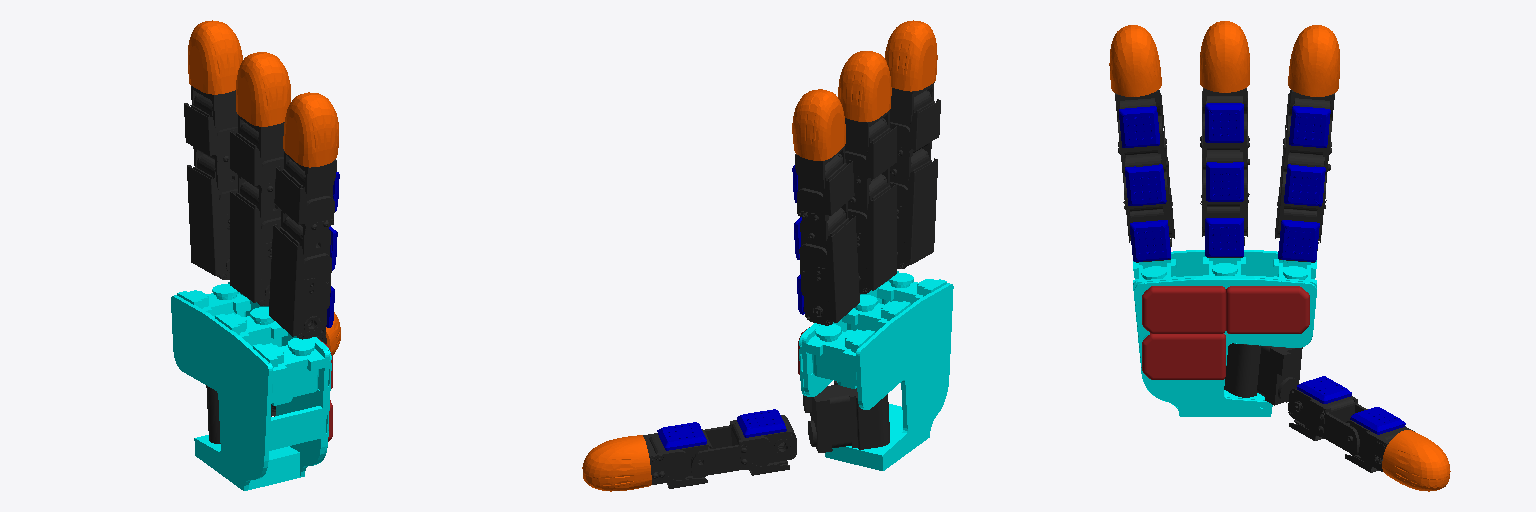
--- Render facts (derived) ---
3 views of the same robot in one strip: view 1: azimuth 30°, elevation 25°; view 2: azimuth 150°, elevation 25°; view 3: azimuth 270°, elevation 25° (orthographic).
Model allegro_hand_right with 44 links and 43 joints (16 revolute, 27 fixed), rooted at world, posed all joints at 0 but 1 set to mid-range because 0 is outside their limits (joint_12 = 0.8295).
Visible links, largest first — view 1: palm_link, link_9, link_5, link_1, 2aftc_palm_link, 1aftc_palm_link, 0aftc_palm_link, link_10, link_2, link_6, link_11, link_3 (+2 smaller); view 2: palm_link, link_1, link_12, link_14, link_5, link_9, 0aftc_palm_link, 3aftc_palm_link, 1aftc_palm_link, 2aftc_palm_link, link_2, link_6 (+7 smaller); view 3: palm_link, ahr_palm_1_4x6_palm_link, ahr_palm_2_4x6_palm_link, link_12, ahr_palm_3_4x6_palm_link, 0aftc_palm_link, 2aftc_palm_link, 1aftc_palm_link, 3aftc_palm_link, link_14, link_9, link_5 (+16 smaller).
Link boxes in pixels (x1,y1,x2,y2): palm_link: [171, 282, 331, 490]; link_9: [269, 216, 331, 339]; link_5: [230, 181, 280, 305]; link_1: [187, 154, 237, 279]; 2aftc_palm_link: [283, 92, 338, 167]; 1aftc_palm_link: [236, 52, 290, 126]; 0aftc_palm_link: [188, 20, 242, 94]; link_10: [274, 159, 334, 256]; link_2: [184, 93, 237, 190]; link_6: [230, 122, 284, 219]; link_11: [284, 152, 336, 199]; link_3: [191, 86, 237, 129]; palm_link: [799, 271, 953, 470]; link_1: [799, 208, 859, 325]; link_12: [803, 381, 889, 452]; link_14: [691, 415, 796, 476]; link_5: [848, 174, 896, 293]; link_9: [890, 148, 937, 268]; 0aftc_palm_link: [792, 89, 845, 160]; 3aftc_palm_link: [582, 435, 651, 491]; 1aftc_palm_link: [838, 51, 891, 121]; 2aftc_palm_link: [885, 20, 937, 91]; link_2: [797, 154, 854, 246]; link_6: [845, 118, 896, 211]; palm_link: [1133, 250, 1316, 416]; ahr_palm_1_4x6_palm_link: [1142, 286, 1225, 333]; ahr_palm_2_4x6_palm_link: [1226, 286, 1309, 333]; link_12: [1224, 343, 1302, 405]; ahr_palm_3_4x6_palm_link: [1142, 333, 1225, 379]; 0aftc_palm_link: [1288, 25, 1339, 96]; 2aftc_palm_link: [1109, 25, 1161, 96]; 1aftc_palm_link: [1200, 21, 1249, 92]; 3aftc_palm_link: [1382, 430, 1450, 491]; link_14: [1288, 388, 1367, 454]; link_9: [1122, 149, 1174, 262]; link_5: [1200, 149, 1249, 257].
Bounding box of the posed robot: 0.152 × 0.2107 × 0.2654 m (x, y, z).
31 mesh visuals loaded from 15 distinct referenced files (10 binary STL); not drawn: 12 (reference not matched to a file when rendering).

The robot description file, URDF, robot "allegro_hand_right":
<?xml version="1.0" ?>
<!-- =================================================================================== -->
<!-- |    This document was autogenerated by xacro from allegro_hand_right.xacro       | -->
<!-- |    EDITING THIS FILE BY HAND IS NOT RECOMMENDED                                 | -->
<!-- =================================================================================== -->
<robot name="allegro_hand_right">
  <!-- Rviz colors -->
  <material name="black">
    <color rgba="0.2 0.2 0.2 0.8"/>
    <!-- Slight transparency to make more visible -->
  </material>
  <material name="blue">
    <color rgba="0.0 0.0 0.8 1.0"/>
  </material>
  <material name="green">
    <color rgba="0.0 0.8 0.0 1.0"/>
  </material>
  <material name="grey">
    <color rgba="0.2 0.2 0.2 1.0"/>
  </material>
  <material name="orange">
    <color rgba="1.0 0.4235294117647059 0.0392156862745098 1.0"/>
  </material>
  <material name="brown">
    <color rgba="0.6470588235294118 0.16470588235294117 0.16470588235294117 1.0"/>
  </material>
  <material name="red">
    <color rgba="0.8 0.0 0.0 1.0"/>
  </material>
  <material name="white">
    <color rgba="1.0 1.0 1.0 1.0"/>
  </material>
  <link name="world"/>
  <link name="palm_link">
    <visual>
      <geometry>
        <mesh filename="package://xela_models/mesh/allegro/base.stl"/>
      </geometry>
      <origin rpy="0 0 0" xyz="0 0 0 "/>
      <material name="cyan">
        <color rgba="0.0 1.0 1.0 1"/>
      </material>
    </visual>
    <collision>
      <origin rpy="0 0 0" xyz="-0.009300 0 -0.0475"/>
      <geometry>
        <box size="0.0408 0.1130 0.095"/>
      </geometry>
    </collision>
    <inertial>
      <mass value="0.4288"/>
      <origin rpy="0 0 0" xyz="0 0 0"/>
      <inertia ixx="2.04e-03" ixy="8.58e-06" ixz="8.58e-06" iyy="1.23e-03" iyz="0.0" izz="1.25e-03"/>
    </inertial>
  </link>
  <joint name="ahr_fixed" type="fixed">
    <origin rpy="0.0 0.0 0.0" xyz="0.0 0.0 0.0"/>
    <parent link="world"/>
    <child link="palm_link"/>
  </joint>
  <joint name="ahr_palm_1_4x6_fixed" type="fixed">
    <origin rpy="1.5707963267948966 0.0 1.5707963267948966" xyz="0.013 -0.051 -0.0365"/>
    <parent link="palm_link"/>
    <child link="ahr_palm_1_4x6_palm_link"/>
  </joint>
  <link name="ahr_palm_1_4x6_palm_link">
    <collision>
      <origin rpy="0 0 0" xyz="0 0 0"/>
      <geometry>
        <mesh filename="package://xela_models/mesh/4x6.stl"/>
      </geometry>
    </collision>
    <visual>
      <origin rpy="0 0 0" xyz="0 0 0"/>
      <geometry>
        <mesh filename="package://xela_models/mesh/4x6.stl"/>
      </geometry>
      <material name="brown"/>
    </visual>
  </link>
  <joint name="ahr_palm_2_4x6_fixed" type="fixed">
    <origin rpy="1.5707963267948966 3.141592653589793 1.5707963267948966" xyz="0.013 0.0523 -0.005"/>
    <parent link="palm_link"/>
    <child link="ahr_palm_2_4x6_palm_link"/>
  </joint>
  <link name="ahr_palm_2_4x6_palm_link">
    <collision>
      <origin rpy="0 0 0" xyz="0 0 0"/>
      <geometry>
        <mesh filename="package://xela_models/mesh/4x6.stl"/>
      </geometry>
    </collision>
    <visual>
      <origin rpy="0 0 0" xyz="0 0 0"/>
      <geometry>
        <mesh filename="package://xela_models/mesh/4x6.stl"/>
      </geometry>
      <material name="brown"/>
    </visual>
  </link>
  <joint name="ahr_palm_3_4x6_fixed" type="fixed">
    <origin rpy="1.5707963267948966 0.0 1.5707963267948966" xyz="0.013 -0.051 -0.068"/>
    <parent link="palm_link"/>
    <child link="ahr_palm_3_4x6_palm_link"/>
  </joint>
  <link name="ahr_palm_3_4x6_palm_link">
    <collision>
      <origin rpy="0 0 0" xyz="0 0 0"/>
      <geometry>
        <mesh filename="package://xela_models/mesh/4x6.stl"/>
      </geometry>
    </collision>
    <visual>
      <origin rpy="0 0 0" xyz="0 0 0"/>
      <geometry>
        <mesh filename="package://xela_models/mesh/4x6.stl"/>
      </geometry>
      <material name="brown"/>
    </visual>
  </link>
  <link name="link_0">
    <visual>
      <geometry>
        <mesh filename="package://xela_models/mesh/allegro/link_0.0_ext.STL"/>
      </geometry>
      <material name="grey"/>
    </visual>
    <collision>
      <geometry>
        <box size="0.0196 0.0275 0.0164"/>
      </geometry>
      <origin rpy="0 0 0" xyz="0 0 0.011200000000000002"/>
    </collision>
    <inertial>
      <mass value="0.0127"/>
      <origin rpy="0 0 0" xyz="0 0 0"/>
      <inertia ixx="1.38e-07" ixy="1.27e-10" ixz="4.83e-09" iyy="6.83e-08" iyz="0.0" izz="1.16e-07"/>
    </inertial>
  </link>
  <joint name="joint_0" type="revolute">
    <axis xyz="0 0 1"/>
    <limit effort="15" lower="-0.47" upper="0.47" velocity="7"/>
    <parent link="palm_link"/>
    <child link="link_0"/>
    <origin rpy="-0.08726646259971647 0 0" xyz="0 0.0435 -0.001542"/>
  </joint>
  <link name="link_1">
    <visual>
      <geometry>
        <mesh filename="package://xela_models/mesh/allegro/link_1.0.stl"/>
      </geometry>
      <material name="black"/>
    </visual>
    <collision>
      <geometry>
        <box size="0.0196 0.0275 0.0164"/>
      </geometry>
      <origin rpy="0 0 0" xyz="0 0 0.0082"/>
    </collision>
    <inertial>
      <mass value="0.0809"/>
      <origin rpy="0 0 0" xyz="0 0 0"/>
      <inertia ixx="1.75e-05" ixy="0.0" ixz="5.66e-08" iyy="1.80e-05" iyz="0.0" izz="4.60e-06"/>
    </inertial>
  </link>
  <!--covers are always with sensors-->
  <link name="link_1_cover">
    <visual>
      <geometry>
        <mesh filename="package://xela_models/mesh/allegro/link_1_cover.stl"/>
      </geometry>
      <material name="red"/>
    </visual>
    <collision>
      <geometry>
        <mesh filename="package://xela_models/mesh/allegro/link_1_cover.stl"/>
      </geometry>
      <origin rpy="0 0 0" xyz="0 0 0.00885"/>
    </collision>
    <!--As link is fixed, inertias will be inside the main link-->
  </link>
  <joint name="link_1_cover_joint" type="fixed">
    <origin rpy="0.0 0.0 0.0" xyz="0.0 0.0 0.0"/>
    <parent link="link_1"/>
    <child link="link_1_cover"/>
  </joint>
  <joint name="link_1A_4x4_fixed" type="fixed">
    <origin rpy="0.0 -1.5707963267948966 3.141592653589793" xyz="0.0108 0.012 0.033"/>
    <parent link="link_1"/>
    <child link="link_1A_4x4_palm_link"/>
  </joint>
  <link name="link_1A_4x4_palm_link">
    <collision>
      <origin rpy="0 0 0" xyz="0 0 0"/>
      <geometry>
        <mesh filename="package://xela_models/mesh/4x4.stl"/>
      </geometry>
    </collision>
    <visual>
      <origin rpy="0 0 0" xyz="0 0 0"/>
      <geometry>
        <mesh filename="package://xela_models/mesh/4x4.stl"/>
      </geometry>
      <material name="blue"/>
    </visual>
  </link>
  <joint name="link_1B_4x4_fixed" type="fixed">
    <origin rpy="0.0 1.5707963267948966 0.0" xyz="0.0108 -0.012 0.021"/>
    <parent link="link_1"/>
    <child link="link_1B_4x4_palm_link"/>
  </joint>
  <link name="link_1B_4x4_palm_link">
    <collision>
      <origin rpy="0 0 0" xyz="0 0 0"/>
      <geometry>
        <mesh filename="package://xela_models/mesh/4x4.stl"/>
      </geometry>
    </collision>
    <visual>
      <origin rpy="0 0 0" xyz="0 0 0"/>
      <geometry>
        <mesh filename="package://xela_models/mesh/4x4.stl"/>
      </geometry>
      <material name="blue"/>
    </visual>
  </link>
  <joint name="joint_1" type="revolute">
    <limit effort="15" lower="-0.19599999999999998" upper="1.6099999999999999" velocity="7"/>
    <axis xyz="0 1 0"/>
    <parent link="link_0"/>
    <child link="link_1"/>
    <origin xyz="0 0 0.0189"/>
    <!-- New height on fingers -->
  </joint>
  <link name="link_2">
    <visual>
      <geometry>
        <mesh filename="package://xela_models/mesh/allegro/link_2.0.stl"/>
      </geometry>
      <material name="black"/>
    </visual>
    <collision>
      <geometry>
        <box size="0.0196 0.0275 0.054"/>
      </geometry>
      <origin rpy="0 0 0" xyz="0 0 0.027"/>
    </collision>
    <!--covers are always with sensors-->
    <inertial>
      <mass value="0.0447"/>
      <origin rpy="0 0 0" xyz="0 0 0"/>
      <inertia ixx="3.80e-07" ixy="0.0" ixz="7.15e-09" iyy="2.26e-07" iyz="1.34e-09" izz="1.86e-07"/>
    </inertial>
  </link>
  <link name="link_2_cover">
    <visual>
      <geometry>
        <mesh filename="package://xela_models/mesh/allegro/link_2_cover.stl"/>
      </geometry>
      <material name="red"/>
    </visual>
    <collision>
      <geometry>
        <mesh filename="package://xela_models/mesh/allegro/link_2_cover.stl"/>
      </geometry>
      <origin rpy="0 0 0" xyz="0 0 0.0257"/>
    </collision>
  </link>
  <joint name="link_2_cover_joint" type="fixed">
    <origin rpy="0.0 0.0 0.0" xyz="0.0 0.0 0.0"/>
    <parent link="link_2"/>
    <child link="link_2_cover"/>
  </joint>
  <joint name="link_2_4x4_fixed" type="fixed">
    <origin rpy="0.0 1.5707963267948966 0.0" xyz="0.01 -0.012 0.0445"/>
    <parent link="link_2"/>
    <child link="link_2_4x4_palm_link"/>
  </joint>
  <link name="link_2_4x4_palm_link">
    <collision>
      <origin rpy="0 0 0" xyz="0 0 0"/>
      <geometry>
        <mesh filename="package://xela_models/mesh/4x4.stl"/>
      </geometry>
    </collision>
    <visual>
      <origin rpy="0 0 0" xyz="0 0 0"/>
      <geometry>
        <mesh filename="package://xela_models/mesh/4x4.stl"/>
      </geometry>
      <material name="blue"/>
    </visual>
  </link>
  <joint name="joint_2" type="revolute">
    <axis xyz="0 1 0"/>
    <limit effort="15" lower="-0.17400000000000002" upper="1.7089999999999999" velocity="7"/>
    <parent link="link_1"/>
    <child link="link_2"/>
    <origin xyz="0 0 0.054"/>
  </joint>
  <link name="link_3">
    <visual>
      <geometry>
        <mesh filename="package://xela_models/mesh/allegro/link_3.0.STL"/>
      </geometry>
      <material name="black"/>
    </visual>
    <collision>
      <geometry>
        <box size="0.0196 0.0275 0.026399999999999996"/>
      </geometry>
      <origin rpy="0 0 0" xyz="0 0 0.013199999999999998"/>
    </collision>
    <inertial>
      <mass value="0.0404"/>
      <origin rpy="0 0 0" xyz="0 0 0"/>
      <inertia ixx="3.64e-06" ixy="0.0" ixz="0.0" iyy="3.33e-06" iyz="0.0" izz="1.92e-06"/>
    </inertial>
  </link>
  <joint name="joint_3" type="revolute">
    <axis xyz="0 1 0"/>
    <limit effort="15" lower="-0.227" upper="1.6179999999999999" velocity="7"/>
    <parent link="link_2"/>
    <child link="link_3"/>
    <origin xyz="0 0.0 0.0384"/>
  </joint>
  <joint name="0aftc_fixed" type="fixed">
    <origin rpy="1.5707963267948966 0.0 1.5707963267948966" xyz="-0.013 0.0 0.016"/>
    <parent link="link_3"/>
    <child link="0aftc_palm_link"/>
  </joint>
  <link name="0aftc_palm_link">
    <collision>
      <origin rpy="0 0 0" xyz="0 0 0"/>
      <geometry>
        <mesh filename="package://xela_models/mesh/ft_c.stl"/>
      </geometry>
    </collision>
    <visual>
      <origin rpy="0 0 0" xyz="0 0 0"/>
      <geometry>
        <mesh filename="package://xela_models/mesh/ft_c.stl"/>
      </geometry>
      <material name="orange"/>
    </visual>
  </link>
  <link name="link_4">
    <visual>
      <geometry>
        <mesh filename="package://xela_models/mesh/allegro/link_0.0_ext.STL"/>
      </geometry>
      <material name="grey"/>
    </visual>
    <collision>
      <geometry>
        <box size="0.0196 0.0275 0.0164"/>
      </geometry>
      <origin rpy="0 0 0" xyz="0 0 0.011200000000000002"/>
    </collision>
    <inertial>
      <mass value="0.0127"/>
      <origin rpy="0 0 0" xyz="0 0 0"/>
      <inertia ixx="1.38e-07" ixy="1.27e-10" ixz="4.83e-09" iyy="6.83e-08" iyz="0.0" izz="1.16e-07"/>
    </inertial>
  </link>
  <joint name="joint_4" type="revolute">
    <axis xyz="0 0 1"/>
    <limit effort="15" lower="-0.47" upper="0.47" velocity="7"/>
    <parent link="palm_link"/>
    <child link="link_4"/>
    <origin rpy="0.0 0 0" xyz="0 0 0.0007"/>
  </joint>
  <link name="link_5">
    <visual>
      <geometry>
        <mesh filename="package://xela_models/mesh/allegro/link_1.0.stl"/>
      </geometry>
      <material name="black"/>
    </visual>
    <collision>
      <geometry>
        <box size="0.0196 0.0275 0.0164"/>
      </geometry>
      <origin rpy="0 0 0" xyz="0 0 0.0082"/>
    </collision>
    <inertial>
      <mass value="0.0809"/>
      <origin rpy="0 0 0" xyz="0 0 0"/>
      <inertia ixx="1.75e-05" ixy="0.0" ixz="5.66e-08" iyy="1.80e-05" iyz="0.0" izz="4.60e-06"/>
    </inertial>
  </link>
  <!--covers are always with sensors-->
  <link name="link_5_cover">
    <visual>
      <geometry>
        <mesh filename="package://xela_models/mesh/allegro/link_1_cover.stl"/>
      </geometry>
      <material name="red"/>
    </visual>
    <collision>
      <geometry>
        <mesh filename="package://xela_models/mesh/allegro/link_1_cover.stl"/>
      </geometry>
      <origin rpy="0 0 0" xyz="0 0 0.00885"/>
    </collision>
    <!--As link is fixed, inertias will be inside the main link-->
  </link>
  <joint name="link_5_cover_joint" type="fixed">
    <origin rpy="0.0 0.0 0.0" xyz="0.0 0.0 0.0"/>
    <parent link="link_5"/>
    <child link="link_5_cover"/>
  </joint>
  <joint name="link_5A_4x4_fixed" type="fixed">
    <origin rpy="0.0 -1.5707963267948966 3.141592653589793" xyz="0.0108 0.012 0.033"/>
    <parent link="link_5"/>
    <child link="link_5A_4x4_palm_link"/>
  </joint>
  <link name="link_5A_4x4_palm_link">
    <collision>
      <origin rpy="0 0 0" xyz="0 0 0"/>
      <geometry>
        <mesh filename="package://xela_models/mesh/4x4.stl"/>
      </geometry>
    </collision>
    <visual>
      <origin rpy="0 0 0" xyz="0 0 0"/>
      <geometry>
        <mesh filename="package://xela_models/mesh/4x4.stl"/>
      </geometry>
      <material name="blue"/>
    </visual>
  </link>
  <joint name="link_5B_4x4_fixed" type="fixed">
    <origin rpy="0.0 1.5707963267948966 0.0" xyz="0.0108 -0.012 0.021"/>
    <parent link="link_5"/>
    <child link="link_5B_4x4_palm_link"/>
  </joint>
  <link name="link_5B_4x4_palm_link">
    <collision>
      <origin rpy="0 0 0" xyz="0 0 0"/>
      <geometry>
        <mesh filename="package://xela_models/mesh/4x4.stl"/>
      </geometry>
    </collision>
    <visual>
      <origin rpy="0 0 0" xyz="0 0 0"/>
      <geometry>
        <mesh filename="package://xela_models/mesh/4x4.stl"/>
      </geometry>
      <material name="blue"/>
    </visual>
  </link>
  <joint name="joint_5" type="revolute">
    <limit effort="15" lower="-0.19599999999999998" upper="1.6099999999999999" velocity="7"/>
    <axis xyz="0 1 0"/>
    <parent link="link_4"/>
    <child link="link_5"/>
    <origin xyz="0 0 0.0189"/>
    <!-- New height on fingers -->
  </joint>
  <link name="link_6">
    <visual>
      <geometry>
        <mesh filename="package://xela_models/mesh/allegro/link_2.0.stl"/>
      </geometry>
      <material name="black"/>
    </visual>
    <collision>
      <geometry>
        <box size="0.0196 0.0275 0.054"/>
      </geometry>
      <origin rpy="0 0 0" xyz="0 0 0.027"/>
    </collision>
    <!--covers are always with sensors-->
    <inertial>
      <mass value="0.0447"/>
      <origin rpy="0 0 0" xyz="0 0 0"/>
      <inertia ixx="3.80e-07" ixy="0.0" ixz="7.15e-09" iyy="2.26e-07" iyz="1.34e-09" izz="1.86e-07"/>
    </inertial>
  </link>
  <link name="link_6_cover">
    <visual>
      <geometry>
        <mesh filename="package://xela_models/mesh/allegro/link_2_cover.stl"/>
      </geometry>
      <material name="red"/>
    </visual>
    <collision>
      <geometry>
        <mesh filename="package://xela_models/mesh/allegro/link_2_cover.stl"/>
      </geometry>
      <origin rpy="0 0 0" xyz="0 0 0.0257"/>
    </collision>
  </link>
  <joint name="link_6_cover_joint" type="fixed">
    <origin rpy="0.0 0.0 0.0" xyz="0.0 0.0 0.0"/>
    <parent link="link_6"/>
    <child link="link_6_cover"/>
  </joint>
  <joint name="link_6_4x4_fixed" type="fixed">
    <origin rpy="0.0 1.5707963267948966 0.0" xyz="0.01 -0.012 0.0445"/>
    <parent link="link_6"/>
    <child link="link_6_4x4_palm_link"/>
  </joint>
  <link name="link_6_4x4_palm_link">
    <collision>
      <origin rpy="0 0 0" xyz="0 0 0"/>
      <geometry>
        <mesh filename="package://xela_models/mesh/4x4.stl"/>
      </geometry>
    </collision>
    <visual>
      <origin rpy="0 0 0" xyz="0 0 0"/>
      <geometry>
        <mesh filename="package://xela_models/mesh/4x4.stl"/>
      </geometry>
      <material name="blue"/>
    </visual>
  </link>
  <joint name="joint_6" type="revolute">
    <axis xyz="0 1 0"/>
    <limit effort="15" lower="-0.17400000000000002" upper="1.7089999999999999" velocity="7"/>
    <parent link="link_5"/>
    <child link="link_6"/>
    <origin xyz="0 0 0.054"/>
  </joint>
  <link name="link_7">
    <visual>
      <geometry>
        <mesh filename="package://xela_models/mesh/allegro/link_3.0.STL"/>
      </geometry>
      <material name="black"/>
    </visual>
    <collision>
      <geometry>
        <box size="0.0196 0.0275 0.026399999999999996"/>
      </geometry>
      <origin rpy="0 0 0" xyz="0 0 0.013199999999999998"/>
    </collision>
    <inertial>
      <mass value="0.0404"/>
      <origin rpy="0 0 0" xyz="0 0 0"/>
      <inertia ixx="3.64e-06" ixy="0.0" ixz="0.0" iyy="3.33e-06" iyz="0.0" izz="1.92e-06"/>
    </inertial>
  </link>
  <joint name="joint_7" type="revolute">
    <axis xyz="0 1 0"/>
    <limit effort="15" lower="-0.227" upper="1.6179999999999999" velocity="7"/>
    <parent link="link_6"/>
    <child link="link_7"/>
    <origin xyz="0 0.0 0.0384"/>
  </joint>
  <joint name="1aftc_fixed" type="fixed">
    <origin rpy="1.5707963267948966 0.0 1.5707963267948966" xyz="-0.013 0.0 0.016"/>
    <parent link="link_7"/>
    <child link="1aftc_palm_link"/>
  </joint>
  <link name="1aftc_palm_link">
    <collision>
      <origin rpy="0 0 0" xyz="0 0 0"/>
      <geometry>
        <mesh filename="package://xela_models/mesh/ft_c.stl"/>
      </geometry>
    </collision>
    <visual>
      <origin rpy="0 0 0" xyz="0 0 0"/>
      <geometry>
        <mesh filename="package://xela_models/mesh/ft_c.stl"/>
      </geometry>
      <material name="orange"/>
    </visual>
  </link>
  <link name="link_8">
    <visual>
      <geometry>
        <mesh filename="package://xela_models/mesh/allegro/link_0.0_ext.STL"/>
      </geometry>
      <material name="grey"/>
    </visual>
    <collision>
      <geometry>
        <box size="0.0196 0.0275 0.0164"/>
      </geometry>
      <origin rpy="0 0 0" xyz="0 0 0.011200000000000002"/>
    </collision>
    <inertial>
      <mass value="0.0127"/>
      <origin rpy="0 0 0" xyz="0 0 0"/>
      <inertia ixx="1.38e-07" ixy="1.27e-10" ixz="4.83e-09" iyy="6.83e-08" iyz="0.0" izz="1.16e-07"/>
    </inertial>
  </link>
  <joint name="joint_8" type="revolute">
    <axis xyz="0 0 1"/>
    <limit effort="15" lower="-0.47" upper="0.47" velocity="7"/>
    <parent link="palm_link"/>
    <child link="link_8"/>
    <origin rpy="0.08726646259971647 0 0" xyz="0 -0.0435 -0.001542"/>
  </joint>
  <link name="link_9">
    <visual>
      <geometry>
        <mesh filename="package://xela_models/mesh/allegro/link_1.0.stl"/>
      </geometry>
      <material name="black"/>
    </visual>
    <collision>
      <geometry>
        <box size="0.0196 0.0275 0.0164"/>
      </geometry>
      <origin rpy="0 0 0" xyz="0 0 0.0082"/>
    </collision>
    <inertial>
      <mass value="0.0809"/>
      <origin rpy="0 0 0" xyz="0 0 0"/>
      <inertia ixx="1.75e-05" ixy="0.0" ixz="5.66e-08" iyy="1.80e-05" iyz="0.0" izz="4.60e-06"/>
    </inertial>
  </link>
  <!--covers are always with sensors-->
  <link name="link_9_cover">
    <visual>
      <geometry>
        <mesh filename="package://xela_models/mesh/allegro/link_1_cover.stl"/>
      </geometry>
      <material name="red"/>
    </visual>
    <collision>
      <geometry>
        <mesh filename="package://xela_models/mesh/allegro/link_1_cover.stl"/>
      </geometry>
      <origin rpy="0 0 0" xyz="0 0 0.00885"/>
    </collision>
    <!--As link is fixed, inertias will be inside the main link-->
  </link>
  <joint name="link_9_cover_joint" type="fixed">
    <origin rpy="0.0 0.0 0.0" xyz="0.0 0.0 0.0"/>
    <parent link="link_9"/>
    <child link="link_9_cover"/>
  </joint>
  <joint name="link_9A_4x4_fixed" type="fixed">
    <origin rpy="0.0 -1.5707963267948966 3.141592653589793" xyz="0.0108 0.012 0.033"/>
    <parent link="link_9"/>
    <child link="link_9A_4x4_palm_link"/>
  </joint>
  <link name="link_9A_4x4_palm_link">
    <collision>
      <origin rpy="0 0 0" xyz="0 0 0"/>
      <geometry>
        <mesh filename="package://xela_models/mesh/4x4.stl"/>
      </geometry>
    </collision>
    <visual>
      <origin rpy="0 0 0" xyz="0 0 0"/>
      <geometry>
        <mesh filename="package://xela_models/mesh/4x4.stl"/>
      </geometry>
      <material name="blue"/>
    </visual>
  </link>
  <joint name="link_9B_4x4_fixed" type="fixed">
    <origin rpy="0.0 1.5707963267948966 0.0" xyz="0.0108 -0.012 0.021"/>
    <parent link="link_9"/>
    <child link="link_9B_4x4_palm_link"/>
  </joint>
  <link name="link_9B_4x4_palm_link">
    <collision>
      <origin rpy="0 0 0" xyz="0 0 0"/>
      <geometry>
        <mesh filename="package://xela_models/mesh/4x4.stl"/>
      </geometry>
    </collision>
    <visual>
      <origin rpy="0 0 0" xyz="0 0 0"/>
      <geometry>
        <mesh filename="package://xela_models/mesh/4x4.stl"/>
      </geometry>
      <material name="blue"/>
    </visual>
  </link>
  <joint name="joint_9" type="revolute">
    <limit effort="15" lower="-0.19599999999999998" upper="1.6099999999999999" velocity="7"/>
    <axis xyz="0 1 0"/>
    <parent link="link_8"/>
    <child link="link_9"/>
    <origin xyz="0 0 0.0189"/>
    <!-- New height on fingers -->
  </joint>
  <link name="link_10">
    <visual>
      <geometry>
        <mesh filename="package://xela_models/mesh/allegro/link_2.0.stl"/>
      </geometry>
      <material name="black"/>
    </visual>
    <collision>
      <geometry>
        <box size="0.0196 0.0275 0.054"/>
      </geometry>
      <origin rpy="0 0 0" xyz="0 0 0.027"/>
    </collision>
    <!--covers are always with sensors-->
    <inertial>
      <mass value="0.0447"/>
      <origin rpy="0 0 0" xyz="0 0 0"/>
      <inertia ixx="3.80e-07" ixy="0.0" ixz="7.15e-09" iyy="2.26e-07" iyz="1.34e-09" izz="1.86e-07"/>
    </inertial>
  </link>
  <link name="link_10_cover">
    <visual>
      <geometry>
        <mesh filename="package://xela_models/mesh/allegro/link_2_cover.stl"/>
      </geometry>
      <material name="red"/>
    </visual>
    <collision>
      <geometry>
        <mesh filename="package://xela_models/mesh/allegro/link_2_cover.stl"/>
      </geometry>
      <origin rpy="0 0 0" xyz="0 0 0.0257"/>
    </collision>
  </link>
  <joint name="link_10_cover_joint" type="fixed">
    <origin rpy="0.0 0.0 0.0" xyz="0.0 0.0 0.0"/>
    <parent link="link_10"/>
    <child link="link_10_cover"/>
  </joint>
  <joint name="link_10_4x4_fixed" type="fixed">
    <origin rpy="0.0 1.5707963267948966 0.0" xyz="0.01 -0.012 0.0445"/>
    <parent link="link_10"/>
    <child link="link_10_4x4_palm_link"/>
  </joint>
  <link name="link_10_4x4_palm_link">
    <collision>
      <origin rpy="0 0 0" xyz="0 0 0"/>
      <geometry>
        <mesh filename="package://xela_models/mesh/4x4.stl"/>
      </geometry>
    </collision>
    <visual>
      <origin rpy="0 0 0" xyz="0 0 0"/>
      <geometry>
        <mesh filename="package://xela_models/mesh/4x4.stl"/>
      </geometry>
      <material name="blue"/>
    </visual>
  </link>
  <joint name="joint_10" type="revolute">
    <axis xyz="0 1 0"/>
    <limit effort="15" lower="-0.17400000000000002" upper="1.7089999999999999" velocity="7"/>
    <parent link="link_9"/>
    <child link="link_10"/>
    <origin xyz="0 0 0.054"/>
  </joint>
  <link name="link_11">
    <visual>
      <geometry>
        <mesh filename="package://xela_models/mesh/allegro/link_3.0.STL"/>
      </geometry>
      <material name="black"/>
    </visual>
    <collision>
      <geometry>
        <box size="0.0196 0.0275 0.026399999999999996"/>
      </geometry>
      <origin rpy="0 0 0" xyz="0 0 0.013199999999999998"/>
    </collision>
    <inertial>
      <mass value="0.0404"/>
      <origin rpy="0 0 0" xyz="0 0 0"/>
      <inertia ixx="3.64e-06" ixy="0.0" ixz="0.0" iyy="3.33e-06" iyz="0.0" izz="1.92e-06"/>
    </inertial>
  </link>
  <joint name="joint_11" type="revolute">
    <axis xyz="0 1 0"/>
    <limit effort="15" lower="-0.227" upper="1.6179999999999999" velocity="7"/>
    <parent link="link_10"/>
    <child link="link_11"/>
    <origin xyz="0 0.0 0.0384"/>
  </joint>
  <joint name="2aftc_fixed" type="fixed">
    <origin rpy="1.5707963267948966 0.0 1.5707963267948966" xyz="-0.013 0.0 0.016"/>
    <parent link="link_11"/>
    <child link="2aftc_palm_link"/>
  </joint>
  <link name="2aftc_palm_link">
    <collision>
      <origin rpy="0 0 0" xyz="0 0 0"/>
      <geometry>
        <mesh filename="package://xela_models/mesh/ft_c.stl"/>
      </geometry>
    </collision>
    <visual>
      <origin rpy="0 0 0" xyz="0 0 0"/>
      <geometry>
        <mesh filename="package://xela_models/mesh/ft_c.stl"/>
      </geometry>
      <material name="orange"/>
    </visual>
  </link>
  <link name="link_12">
    <visual>
      <geometry>
        <mesh filename="package://xela_models/mesh/allegro/link_12.0_right.STL"/>
      </geometry>
      <material name="grey"/>
    </visual>
    <collision>
      <geometry>
        <box size="0.0358 0.034 0.0455"/>
      </geometry>
      <origin rpy="0 0 0" xyz="-0.0179 0.009 0.0145"/>
    </collision>
    <inertial>
      <mass value="0.0176"/>
      <origin rpy="0 0 0" xyz="0 0 0"/>
      <inertia ixx="3.36e-06" ixy="0.0" ixz="1.76e-08" iyy="3.84e-06" iyz="2.46e-07" izz="2.59e-06"/>
    </inertial>
  </link>
  <joint name="joint_12" type="revolute">
    <axis xyz="-1 0 0"/>
    <limit effort="15" lower="0.263" upper="1.396" velocity="7"/>
    <parent link="palm_link"/>
    <child link="link_12"/>
    <origin rpy="0 -1.6580627893946132 -1.5707963267948966" xyz="-0.0182 0.019333 -0.046487"/>
  </joint>
  <link name="link_13">
    <visual>
      <geometry>
        <mesh filename="package://xela_models/mesh/allegro/link_0.0_ext.STL"/>
        <!-- link_13.0.STL -->
      </geometry>
      <material name="grey"/>
    </visual>
    <collision>
      <geometry>
        <box size="0.0196 0.0275 0.0177"/>
      </geometry>
      <origin rpy="0 0 0" xyz="0 0 0.00885"/>
    </collision>
    <inertial>
      <mass value="0.0127"/>
      <origin rpy="0 0 0" xyz="0 0 0"/>
      <inertia ixx="1.38e-07" ixy="1.27e-10" ixz="4.83e-09" iyy="6.83e-08" iyz="0.0" izz="1.16e-07"/>
    </inertial>
  </link>
  <link name="link_14_cover">
    <visual>
      <geometry>
        <mesh filename="package://xela_models/mesh/allegro/thumb_1_cover.stl"/>
      </geometry>
      <material name="red"/>
    </visual>
    <collision>
      <geometry>
        <mesh filename="package://xela_models/mesh/allegro/thumb_1_cover.stl"/>
      </geometry>
      <origin rpy="0 0 0" xyz="0 0 0"/>
    </collision>
  </link>
  <joint name="link_14_cover_joint" type="fixed">
    <origin rpy="0.0 0.0 0.0" xyz="0.0 0.0 0.0"/>
    <parent link="link_14"/>
    <child link="link_14_cover"/>
  </joint>
  <joint name="joint_13" type="revolute">
    <axis xyz="0 0 1"/>
    <limit effort="15" lower="-0.10499999999999998" upper="1.1629999999999998" velocity="7"/>
    <parent link="link_12"/>
    <child link="link_13"/>
    <origin xyz="-0.027 0.005 0.0399"/>
  </joint>
  <link name="link_14">
    <visual>
      <geometry>
        <mesh filename="package://xela_models/mesh/allegro/thumb_1.0.stl"/>
      </geometry>
      <material name="black"/>
    </visual>
    <collision>
      <geometry>
        <box size="0.0196 0.0275 0.0514"/>
      </geometry>
      <origin rpy="0 0 0" xyz="0 0 0.0257"/>
    </collision>
    <!--covers are always with sensors-->
    <inertial>
      <mass value="0.0457"/>
      <origin rpy="0 0 0" xyz="0 0 0"/>
      <inertia ixx="3.20e-06" ixy="9.14e-09" ixz="1.46e-07" iyy="3.03e-06" iyz="0.0" izz="1.47e-06"/>
    </inertial>
  </link>
  <link name="link_15_cover">
    <visual>
      <geometry>
        <mesh filename="package://xela_models/mesh/allegro/thumb_2_cover.stl"/>
      </geometry>
      <material name="red"/>
    </visual>
    <collision>
      <geometry>
        <mesh filename="package://xela_models/mesh/allegro/thumb_2_cover.stl"/>
      </geometry>
      <origin rpy="0 0 0" xyz="0 0 0"/>
    </collision>
  </link>
  <joint name="link_15_cover_joint" type="fixed">
    <origin rpy="0.0 0.0 0.0" xyz="0.0 0.0 0.0"/>
    <parent link="link_15"/>
    <child link="link_15_cover"/>
  </joint>
  <joint name="link_14_4x4_fixed" type="fixed">
    <origin rpy="0.0 1.5707963267948966 0.0" xyz="0.011 -0.012 0.023"/>
    <parent link="link_14"/>
    <child link="link_14_4x4_palm_link"/>
  </joint>
  <link name="link_14_4x4_palm_link">
    <collision>
      <origin rpy="0 0 0" xyz="0 0 0"/>
      <geometry>
        <mesh filename="package://xela_models/mesh/4x4.stl"/>
      </geometry>
    </collision>
    <visual>
      <origin rpy="0 0 0" xyz="0 0 0"/>
      <geometry>
        <mesh filename="package://xela_models/mesh/4x4.stl"/>
      </geometry>
      <material name="blue"/>
    </visual>
  </link>
  <joint name="joint_14" type="revolute">
    <axis xyz="0 1 0"/>
    <limit effort="15" lower="-0.18899999999999997" upper="1.644" velocity="7"/>
    <parent link="link_13"/>
    <child link="link_14"/>
    <origin rpy="0 -0.017453292519943295 0" xyz="0 0 0.019700000000000002"/>
  </joint>
  <link name="link_15">
    <visual>
      <geometry>
        <mesh filename="package://xela_models/mesh/allegro/thumb_2.0.stl"/>
      </geometry>
      <material name="black"/>
    </visual>
    <collision>
      <geometry>
        <box size="0.0196 0.0275 0.042300000000000004"/>
      </geometry>
      <origin rpy="0 0 0" xyz="0 0 0.021150000000000002"/>
    </collision>
    <inertial>
      <mass value="0.0753"/>
      <origin rpy="0 0 0" xyz="0 0 0"/>
      <inertia ixx="2.90e-05" ixy="0.0" ixz="0.0" iyy="2.90e-05" iyz="0.0" izz="6.88e-06"/>
    </inertial>
  </link>
  <joint name="link_15_4x4_fixed" type="fixed">
    <origin rpy="0.0 1.5707963267948966 0.0" xyz="0.011 -0.012 0.021"/>
    <parent link="link_15"/>
    <child link="link_15_4x4_palm_link"/>
  </joint>
  <link name="link_15_4x4_palm_link">
    <collision>
      <origin rpy="0 0 0" xyz="0 0 0"/>
      <geometry>
        <mesh filename="package://xela_models/mesh/4x4.stl"/>
      </geometry>
    </collision>
    <visual>
      <origin rpy="0 0 0" xyz="0 0 0"/>
      <geometry>
        <mesh filename="package://xela_models/mesh/4x4.stl"/>
      </geometry>
      <material name="blue"/>
    </visual>
  </link>
  <joint name="joint_15" type="revolute">
    <axis xyz="0 1 0"/>
    <limit effort="15" lower="-0.162" upper="1.7189999999999999" velocity="7"/>
    <parent link="link_14"/>
    <child link="link_15"/>
    <origin xyz="0 0 0.0514"/>
    <!--allegro link size difference-0.004-->
  </joint>
  <joint name="3aftc_fixed" type="fixed">
    <origin rpy="1.5707963267948966 0.0 1.5707963267948966" xyz="-0.013 0.0 0.0315"/>
    <parent link="link_15"/>
    <child link="3aftc_palm_link"/>
  </joint>
  <link name="3aftc_palm_link">
    <collision>
      <origin rpy="0 0 0" xyz="0 0 0"/>
      <geometry>
        <mesh filename="package://xela_models/mesh/ft_c.stl"/>
      </geometry>
    </collision>
    <visual>
      <origin rpy="0 0 0" xyz="0 0 0"/>
      <geometry>
        <mesh filename="package://xela_models/mesh/ft_c.stl"/>
      </geometry>
      <material name="orange"/>
    </visual>
  </link>
  <!-- Enable the following 2 if you would like to see different options the same time -->
  <!-- <xacro:allegro_hand_right sequence="2" parent="world" x="0.2" tips="curved" /> -->
  <!-- <xacro:allegro_hand_right sequence="3" parent="world" x="-0.2" covers="0" palm="0" phalanges="0" tips="default"/> -->
</robot>
